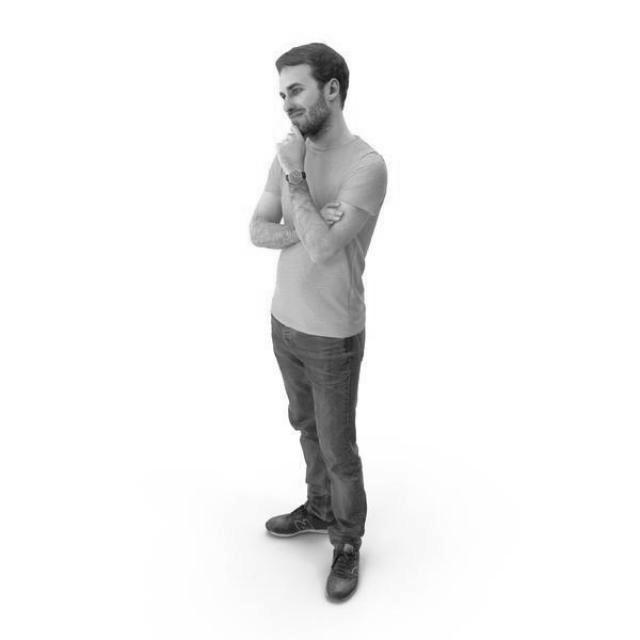person: (246, 23, 399, 598)
